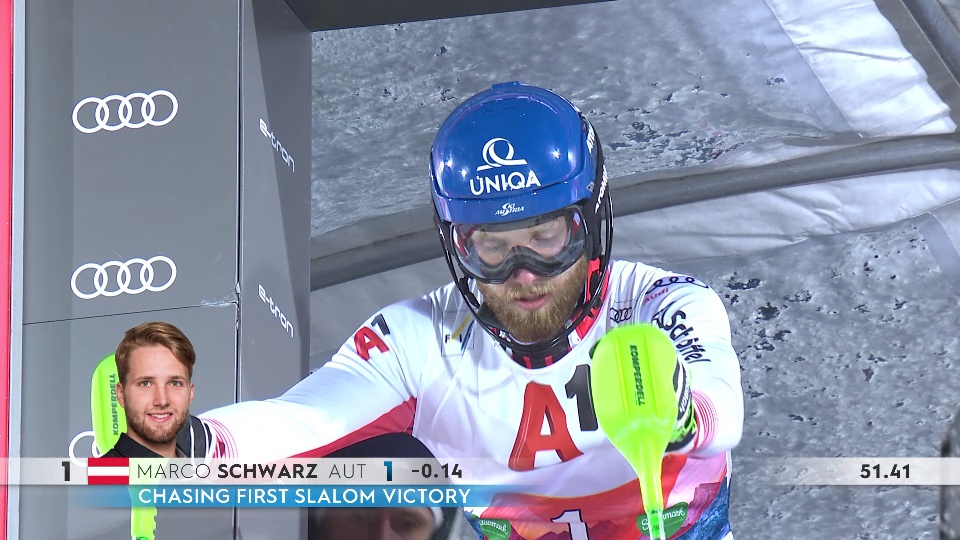a1: (504, 374, 599, 469), (351, 316, 396, 361)
audi: (69, 255, 185, 303), (71, 90, 186, 136)
etron: (253, 116, 297, 172), (254, 285, 298, 341)
steiermark: (480, 518, 512, 539)
uniqa: (471, 137, 541, 194)
